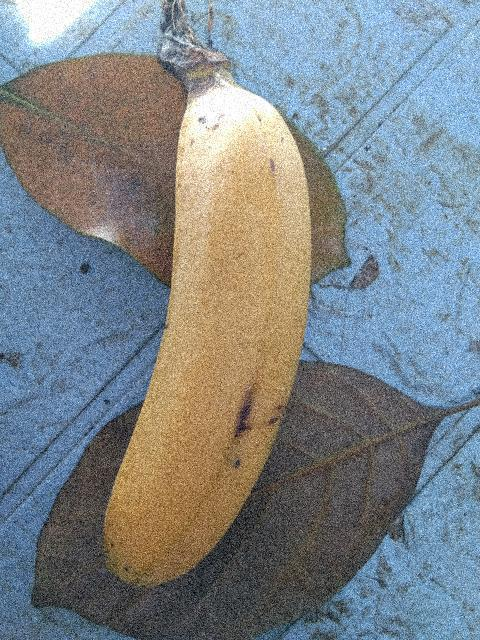freshripe: (75, 56, 329, 613)
